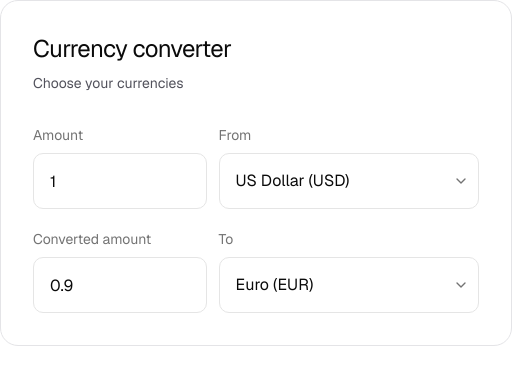
Test: currency converter › clears the result and explains why an empty amount is invalid
Expected: the number field labelled "Converted amount" holds "0.9", [33, 257, 207, 313]
Clear the number field labelled "Amount": (120,181) [33, 153, 207, 209]
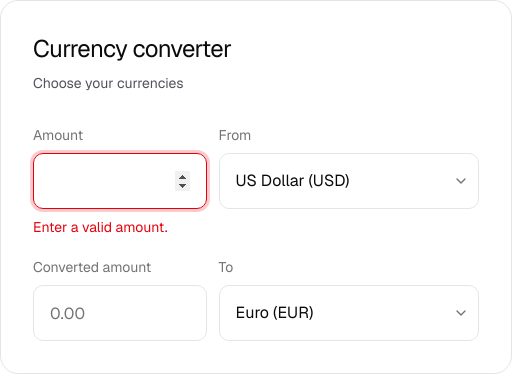
Result: the message reads "Enter a valid amount." at [33, 218, 168, 236]
Result: the number field labelled "Converted amount" is not empty at [33, 285, 207, 341]
